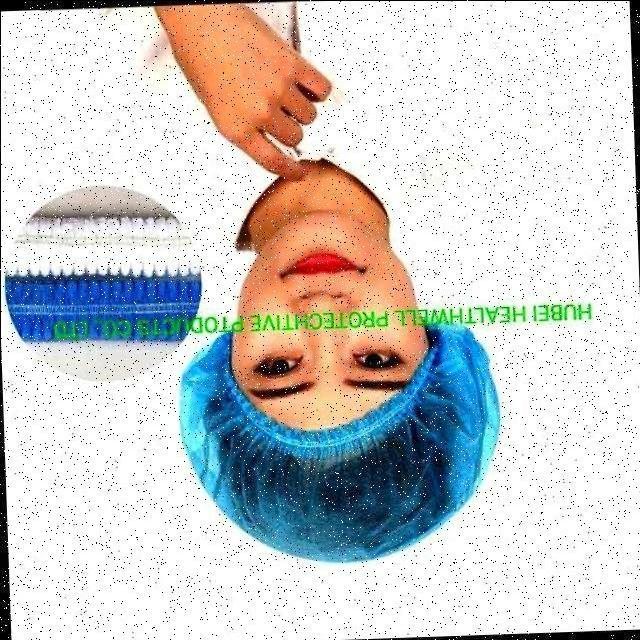no_apron: (173, 0, 348, 186)
no_hairnet: (282, 232, 382, 362)
